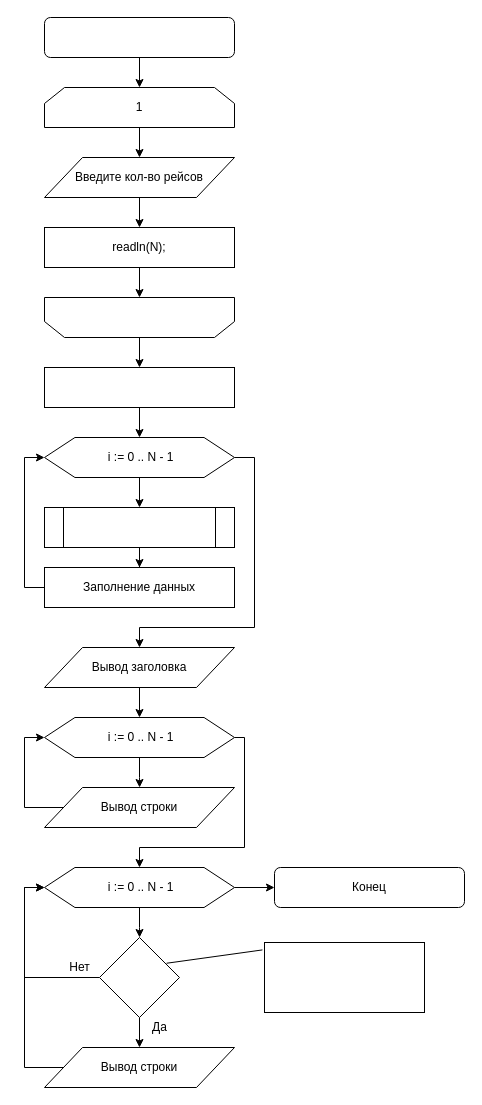
Image size: 482x1105. Some labels were removed from this diagram. The box of each missing label's shape, as (x1, y1, x2, y2) in pixels:
1 N > 9: (44, 296, 234, 338)
From = 'Владивосток') and ((Days = 1) or (Days = 3)): (264, 942, 424, 1012)
setLength(Race_array, N);: (44, 366, 234, 408)
with Race_array[i] do: (44, 506, 234, 548)
Начало: (44, 16, 234, 58)
